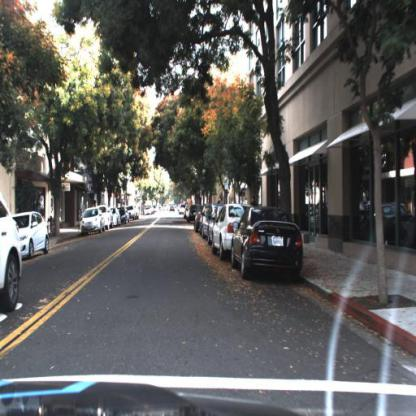car: (229, 204, 305, 286), (1, 190, 25, 314), (211, 204, 249, 265), (17, 208, 53, 264), (212, 200, 235, 260), (76, 205, 108, 239)
